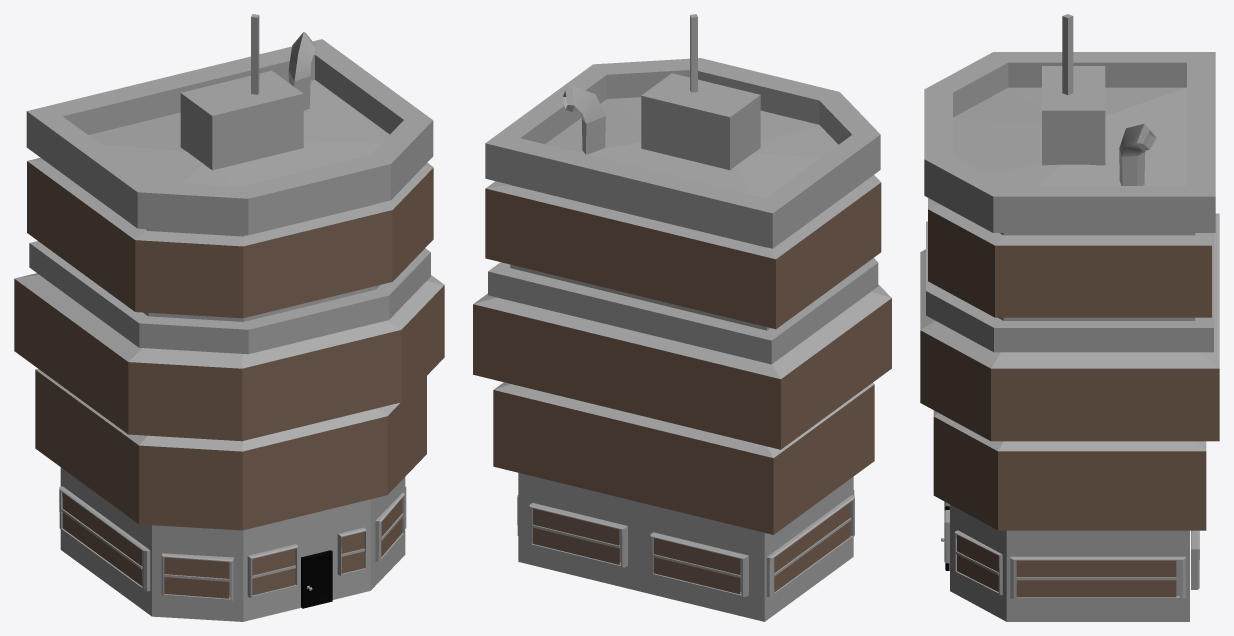
File: FancyOffice.fbx
3 views of the same model, side by side, from view 1: azimuth 30°, elevation 25°; view 2: azimuth 150°, elevation 25°; view 3: azimuth 270°, elevation 25° (orthographic). The views are drawn at different scales.
Visible parts, largest first — view 1: pCube241, pCube242, polySurface523, polySurface516, polySurface517, pSphere15, polySurface519, pCylinder73, polySurface518, pCylinder75; view 2: pCube241, pCube242, polySurface522, polySurface521, polySurface523, pCylinder73, pCylinder75; view 3: pCube241, polySurface520, pCube242, polySurface519, pCylinder73, pCylinder75, polySurface521.
Part boxes in pixels (box(x1,y1,x2,y2)): pCube241: box(14, 39, 444, 621); pCube242: box(180, 70, 303, 170); polySurface523: box(59, 486, 150, 591); polySurface516: box(161, 553, 234, 600); polySurface517: box(247, 544, 297, 597); pSphere15: box(301, 550, 332, 608); polySurface519: box(375, 492, 404, 561); pCylinder73: box(288, 32, 315, 110); polySurface518: box(337, 527, 366, 575); pCylinder75: box(251, 14, 259, 94); pCube241: box(473, 58, 891, 621); pCube242: box(641, 73, 760, 170); polySurface522: box(650, 532, 748, 597); polySurface521: box(529, 503, 627, 567); polySurface523: box(766, 495, 854, 597); pCylinder73: box(563, 86, 605, 154); pCylinder75: box(690, 14, 697, 92); pCube241: box(920, 52, 1219, 621); polySurface520: box(1010, 556, 1185, 598); pCube242: box(1042, 66, 1105, 165); polySurface519: box(954, 530, 1002, 595); pCylinder73: box(1119, 123, 1156, 185); pCylinder75: box(1062, 14, 1073, 94); polySurface521: box(1191, 530, 1199, 589).
Size of the model in its own units: 71.14 by 117 by 58.15.
